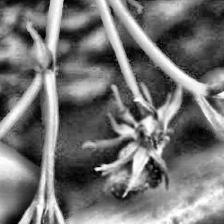Gray Mold: (84, 85, 182, 202)
